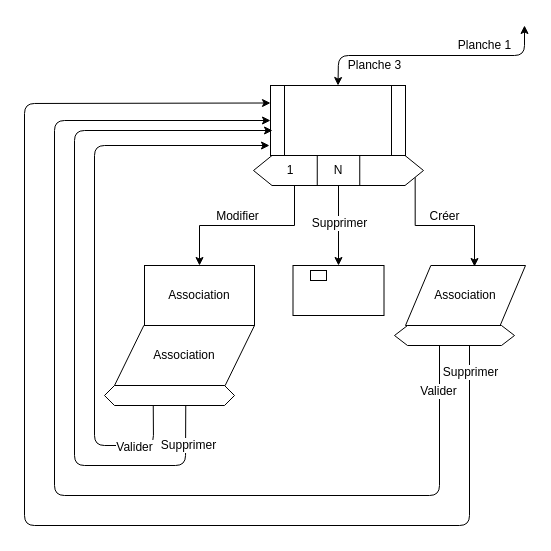
The diagram is 551 pixels wide and 551 high, and some of its shapes have lost their labels. Here are the shapes that lost their labels. From the top down, the centre of each, then its label:
At (338,120): "Association (classe1, classe2)".
At (338,290): "Confirmation".
